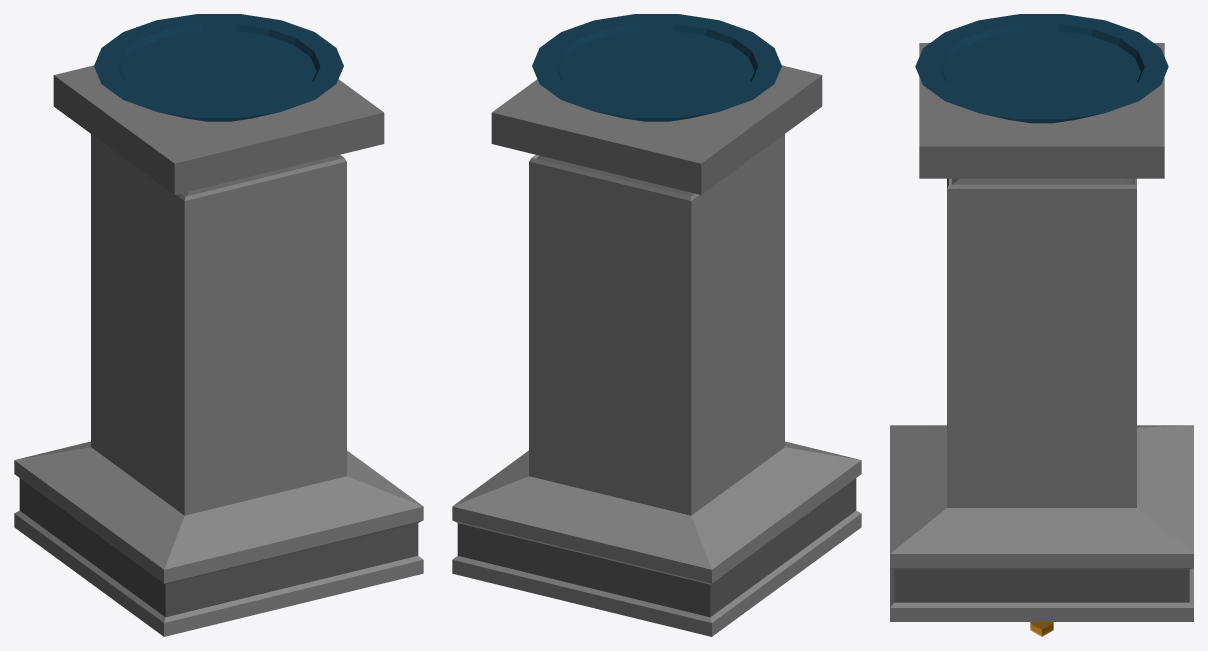
The model's file is Nameiz.fbx.
3 views of the same model, side by side, from view 1: azimuth 30°, elevation 25°; view 2: azimuth 150°, elevation 25°; view 3: azimuth 270°, elevation 25° (orthographic).
Visible parts, largest first — view 1: Stand; view 2: Stand; view 3: Stand.
Boxes of the visible parts, left/top/right/bottom form: Stand: left=14, top=14, right=423, bottom=636; Stand: left=452, top=14, right=861, bottom=636; Stand: left=890, top=14, right=1193, bottom=621.
Bounding box in the file's own units: 73.57 × 151 × 73.57.
